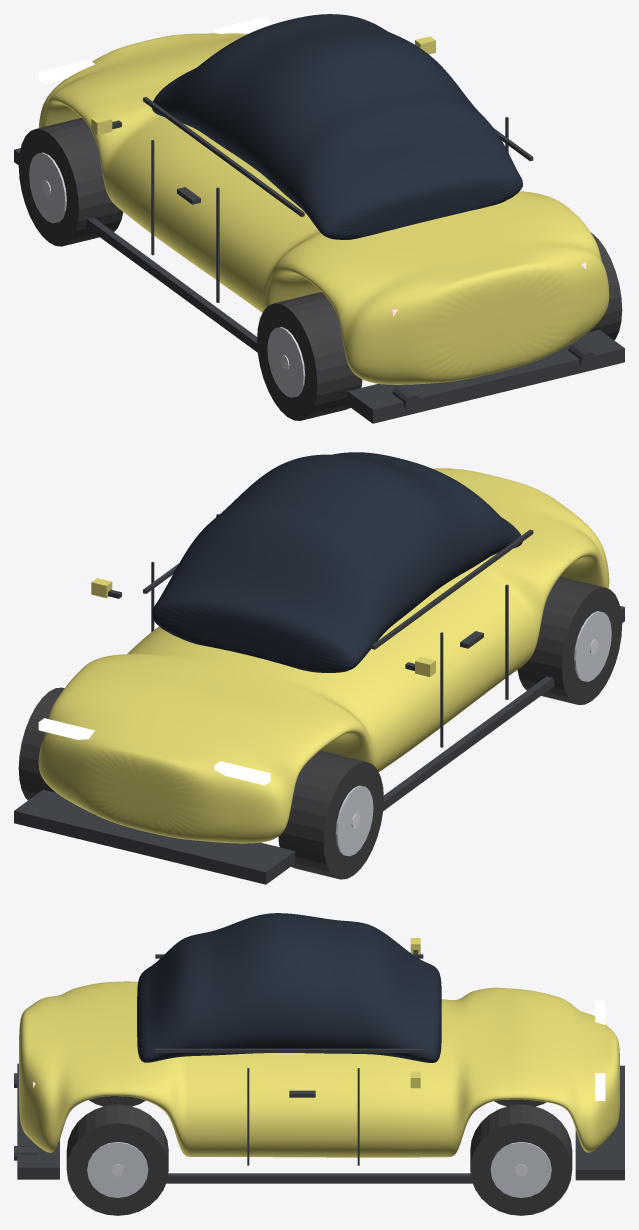
The model's file is pico-s.glb.
3 renders of one model, top to bottom at view 1: azimuth 30°, elevation 25°; view 2: azimuth 150°, elevation 25°; view 3: azimuth 270°, elevation 25°, orthographic. The views are drawn at different scales.
Parts seen in each view (by area): view 1: Body, Glass, Trim, WheelRL, WheelFL, WheelRR, LightFront; view 2: Body, Glass, Trim, WheelFL, WheelRL, WheelFR, LightFront; view 3: Body, Glass, Trim, WheelFR, WheelRR, LightFront, WheelRL.
Boxes of the visible parts, left/top/right/bottom form: Body: left=38, top=33, right=609, bottom=384; Glass: left=152, top=14, right=522, bottom=239; Trim: left=14, top=36, right=624, bottom=423; WheelRL: left=257, top=292, right=362, bottom=420; WheelFL: left=18, top=118, right=123, bottom=246; WheelRR: left=588, top=232, right=622, bottom=340; LightFront: left=38, top=16, right=270, bottom=83; Body: left=38, top=468, right=609, bottom=843; Glass: left=151, top=452, right=522, bottom=672; Trim: left=14, top=514, right=624, bottom=884; WheelFL: left=278, top=751, right=383, bottom=879; WheelRL: left=517, top=576, right=622, bottom=704; WheelFR: left=18, top=687, right=64, bottom=800; LightFront: left=38, top=718, right=270, bottom=785; Body: left=19, top=981, right=619, bottom=1157; Glass: left=137, top=913, right=441, bottom=1062; Trim: left=14, top=938, right=624, bottom=1183; WheelFR: left=470, top=1104, right=572, bottom=1215; WheelRR: left=66, top=1104, right=168, bottom=1215; LightFront: left=595, top=1000, right=605, bottom=1100; WheelRL: left=89, top=1096, right=145, bottom=1106.
Size of the model in its own units: 2.01 by 1.52 by 3.71.
